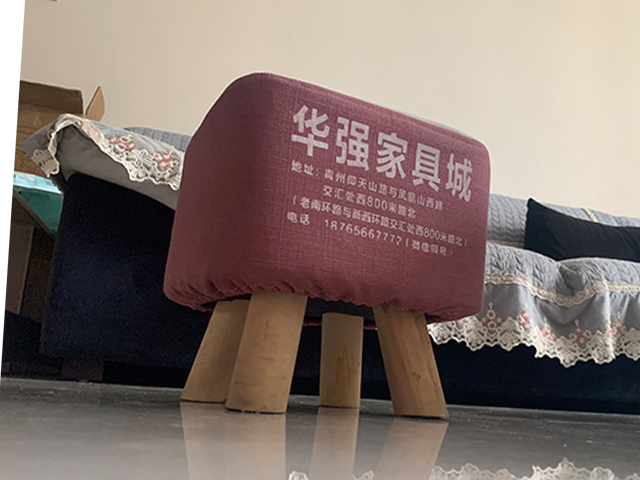sofa: (19, 113, 640, 415)
stool: (162, 72, 492, 419)
